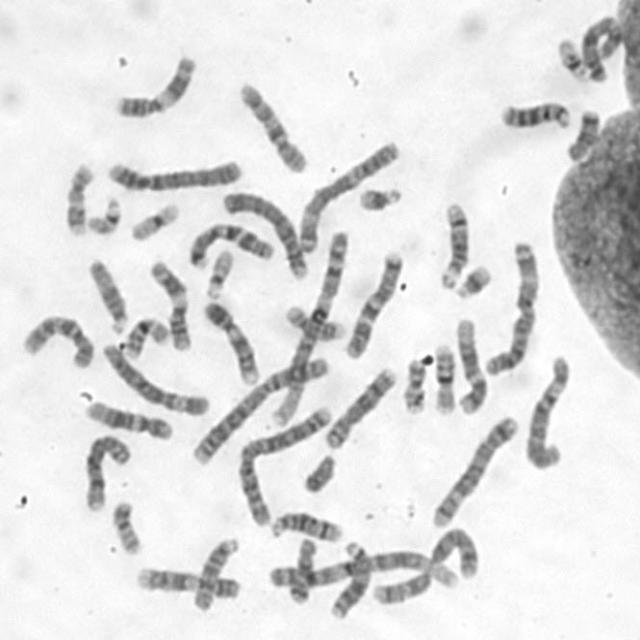A1: (266, 222, 354, 431), (266, 549, 464, 594)
A2: (188, 350, 334, 467), (233, 399, 336, 528)
A3: (294, 135, 404, 254), (481, 234, 544, 377)
B4: (217, 184, 311, 282), (102, 151, 246, 193)
B5: (427, 408, 523, 530), (369, 520, 483, 608)
C10: (234, 76, 311, 176), (18, 306, 98, 371)
C11: (109, 47, 199, 120), (144, 254, 193, 352)
C12: (82, 394, 176, 441), (452, 311, 491, 416)
C6: (97, 336, 213, 418), (520, 349, 574, 472)
C7: (340, 245, 406, 360), (185, 217, 276, 270)
C8: (320, 360, 400, 451), (78, 426, 135, 514)
C9: (198, 294, 262, 386), (131, 560, 242, 601)
D13: (326, 535, 374, 620), (496, 94, 574, 132)
D14: (435, 194, 473, 291), (266, 506, 346, 544)
D15: (188, 531, 242, 613), (85, 253, 132, 335)
E16: (118, 310, 172, 360), (429, 338, 459, 416)
E17: (59, 156, 97, 238), (281, 297, 348, 343)
E18: (285, 532, 319, 606), (562, 103, 603, 163)
F19: (126, 196, 183, 243), (552, 32, 589, 83)
F20: (107, 494, 146, 556), (398, 353, 429, 415)
G21: (450, 258, 496, 300), (353, 178, 405, 214)
G22: (201, 242, 236, 300), (83, 192, 123, 236)
X: (576, 10, 624, 84)
Y: (298, 448, 339, 494)
